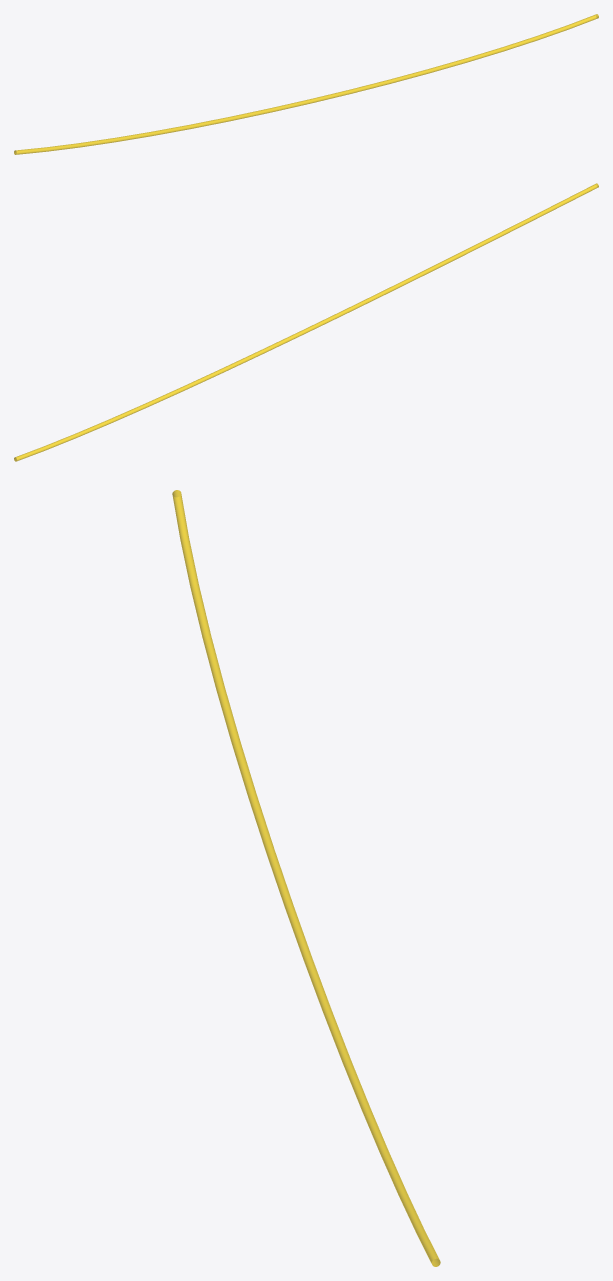
Rendered from Event_31209032_track_22.fbx.
3 renders of one model, top to bottom at view 1: azimuth 30°, elevation 25°; view 2: azimuth 210°, elevation 25°; view 3: azimuth 270°, elevation 25°, orthographic. The views are drawn at different scales.
Visible parts, largest first — view 1: Model; view 2: Model; view 3: Model.
Boxes of the visible parts, bbox=[...] form: Model: bbox=[14, 14, 598, 154]; Model: bbox=[14, 183, 598, 461]; Model: bbox=[172, 490, 440, 1266].
Size of the model in its own units: 6.62 by 0.7127 by 1.19.
